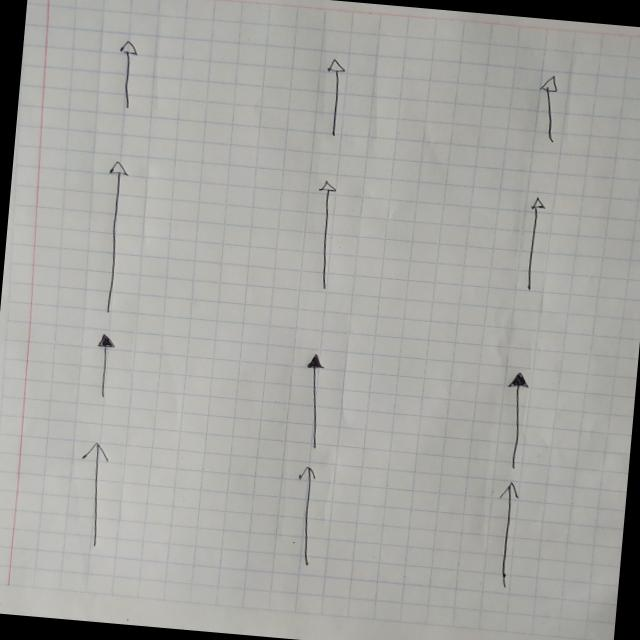arrow_line_up: (94, 157, 132, 316), (72, 440, 115, 551), (308, 176, 342, 291), (287, 464, 324, 568), (489, 478, 523, 590), (298, 352, 331, 450), (499, 370, 531, 470), (521, 195, 546, 292), (319, 58, 348, 140), (534, 73, 564, 146), (112, 38, 140, 114), (90, 332, 116, 400)
